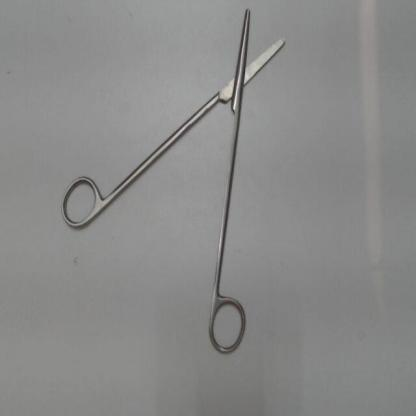9 Metzenbaum Scissors: (56, 4, 290, 366)
